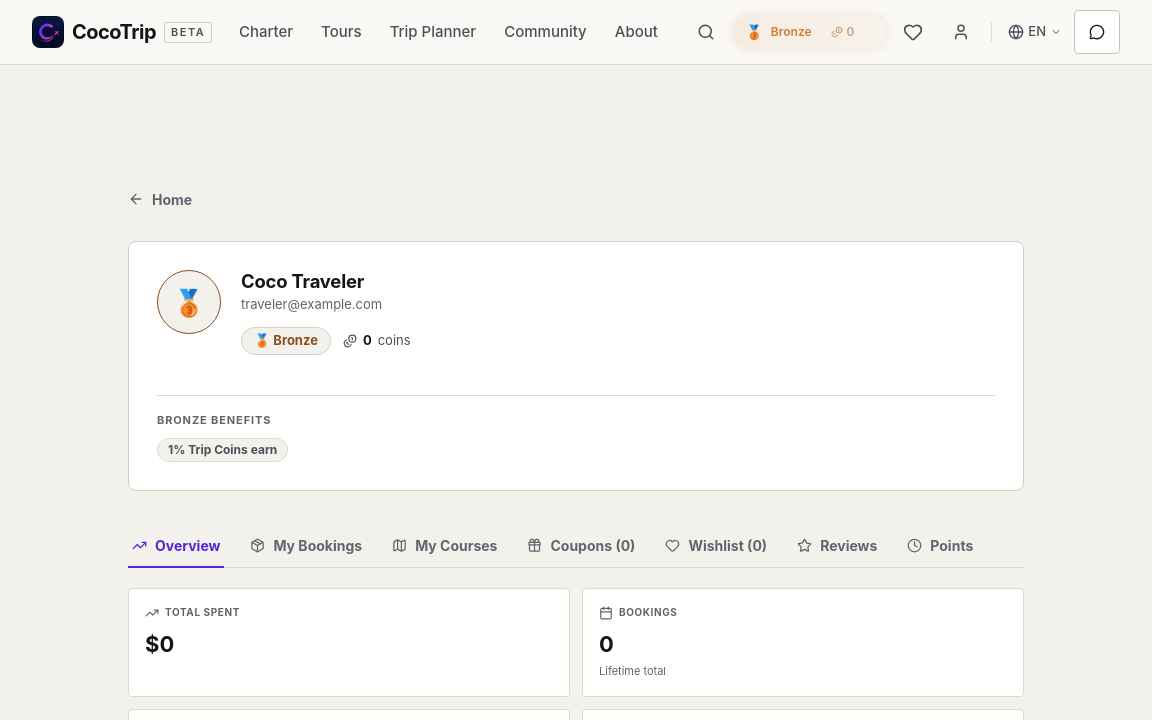
it: /mypage editorial shell › gives the empty wishlist an actionable editorial empty state
The image size is (1152, 720).
Click the tab "Wishlist (0)" at (716, 545), box [661, 523, 771, 567]
(page scrolled)
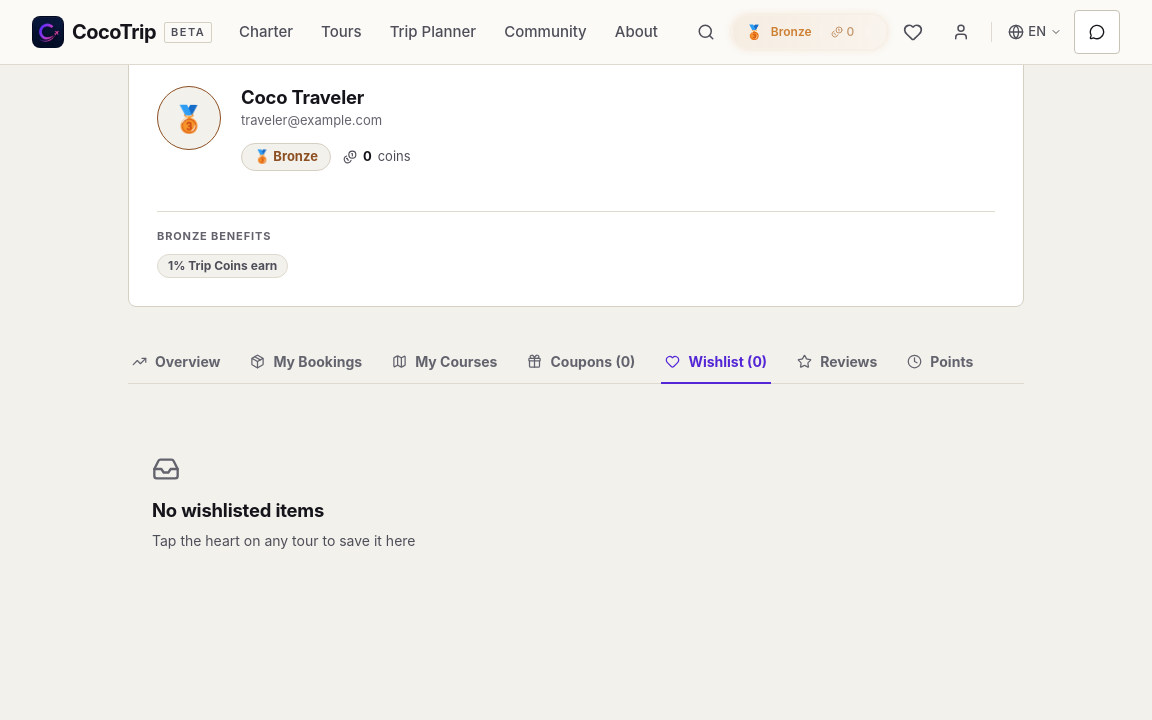
Expected: the heading "No wishlisted items" is shown, [152, 499, 324, 522]
Expected: the text "Tap the heart on any tour to save it here" is shown, [152, 530, 416, 553]
